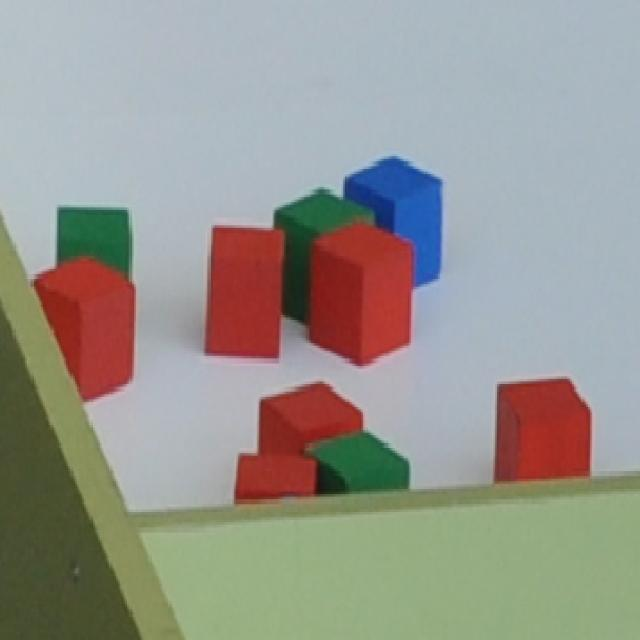bluecube: (345, 156, 445, 287)
green cube: (275, 190, 376, 325), (305, 430, 412, 495), (57, 204, 131, 282)
red cube: (34, 255, 136, 403), (310, 219, 413, 361), (494, 378, 594, 484), (209, 221, 283, 359), (257, 381, 365, 458), (237, 455, 316, 500)
